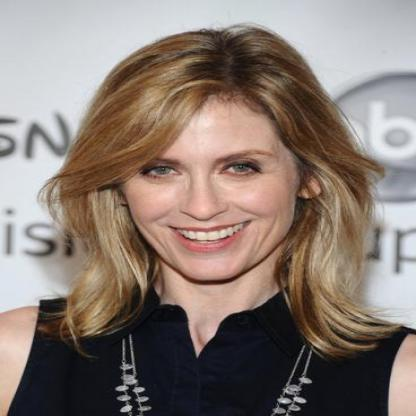long-hair: (6, 284, 415, 348)
